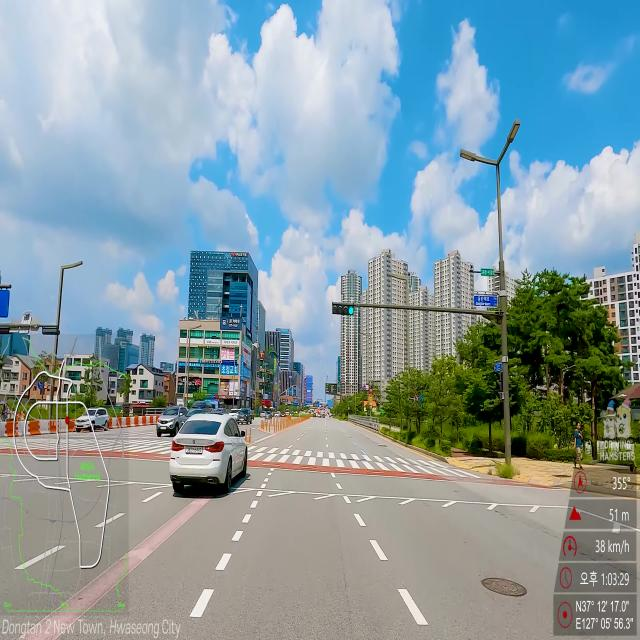Green Light: (349, 305, 353, 315)
